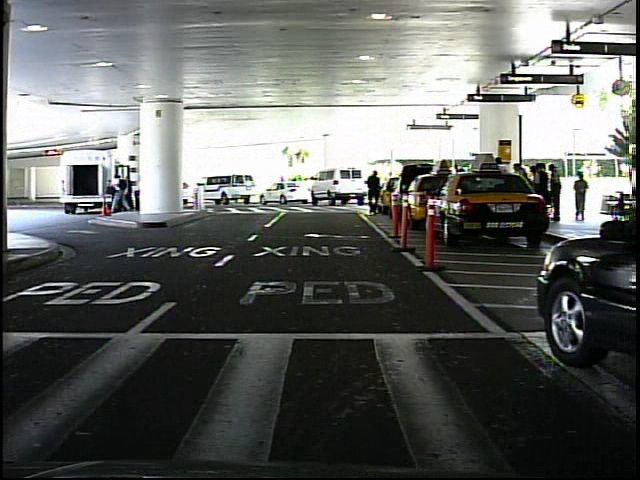person: (362, 164, 386, 220), (572, 168, 591, 226)
